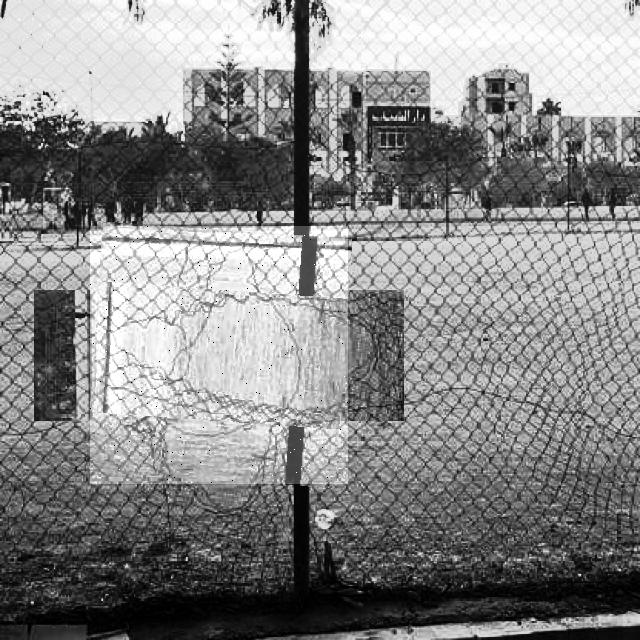anomaly-fence: (90, 226, 348, 484)
